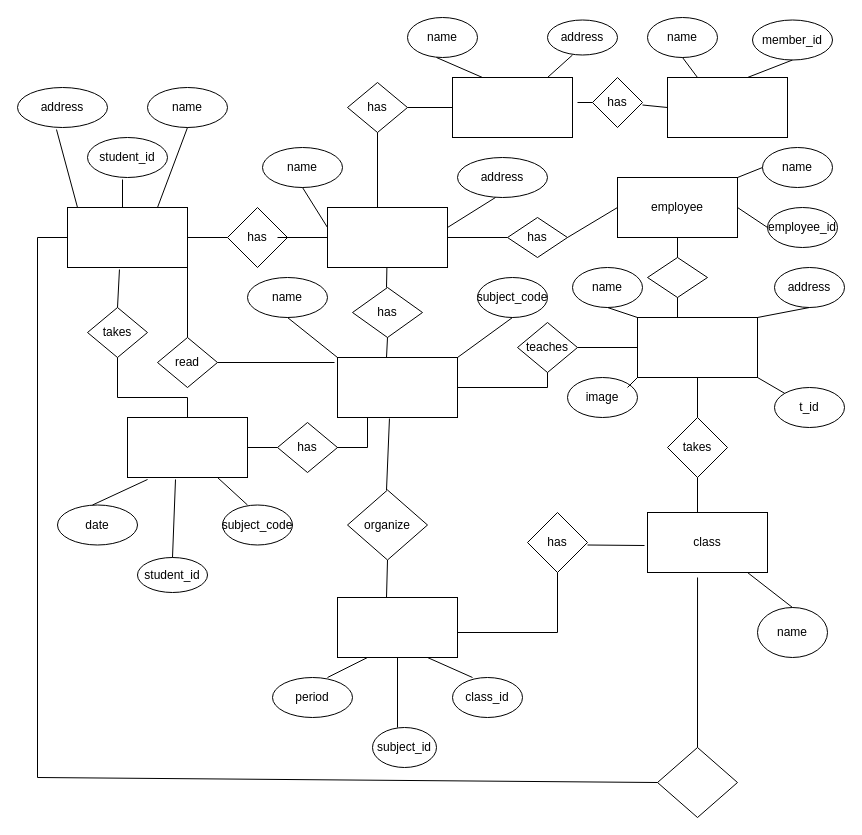
Some shapes in this 862 by 835 pixel diagram are drawn without their labels. Here are the shapes that lost their labels. From the top down, the centre of each, then its label:
(512,107): library
(727,107): members
(127,237): student
(387,237): school
(677,277): is a
(697,347): teachers
(397,387): subject
(187,447): examination
(397,627): time_table
(697,782): enroll
